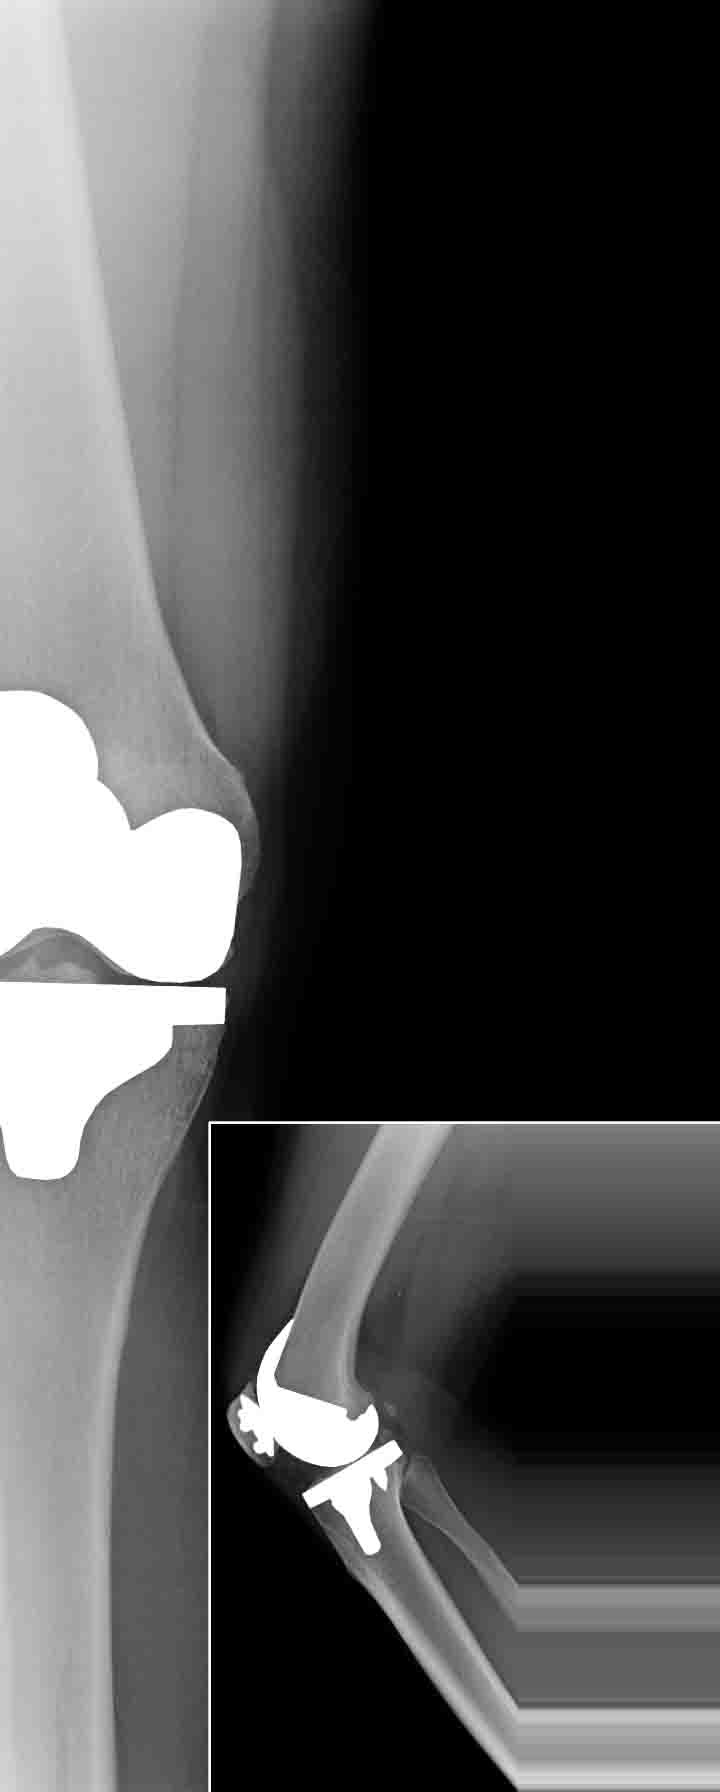Knee-TriathlonTritanium-Stryker: (1, 687, 288, 1190), (227, 1305, 418, 1583)
